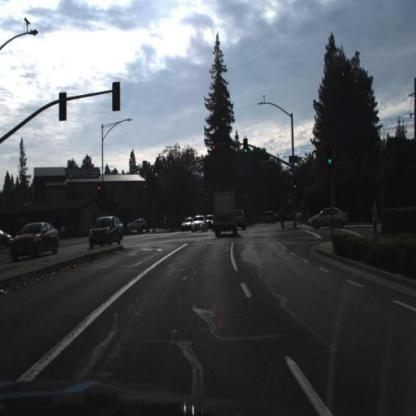biker: (280, 207, 288, 230)
car: (11, 225, 60, 263), (210, 186, 243, 242), (87, 213, 125, 246), (307, 207, 347, 231), (127, 216, 151, 237), (190, 215, 208, 234), (235, 208, 249, 232), (263, 208, 278, 226), (182, 216, 196, 234), (206, 211, 216, 235), (293, 209, 306, 227), (115, 217, 127, 233)
pedestrian: (368, 197, 385, 238)
trafficLight-Green: (325, 147, 336, 177), (325, 146, 335, 177), (291, 170, 301, 195), (243, 136, 251, 161), (244, 140, 250, 158), (293, 174, 298, 190)
trafficLight-Red: (211, 142, 218, 161)
trafficLight-RedLeft: (95, 181, 106, 208), (97, 181, 103, 197), (212, 145, 217, 159)
truck: (213, 188, 240, 241)
